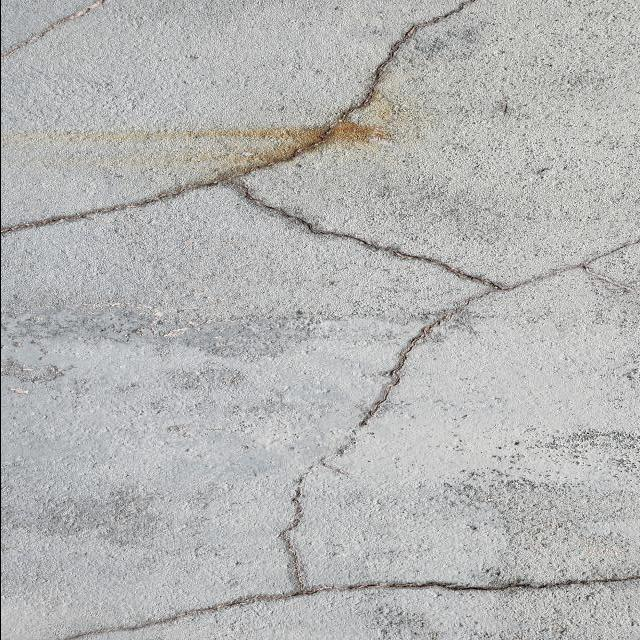SurfaceCrack: (1, 10, 640, 638)
